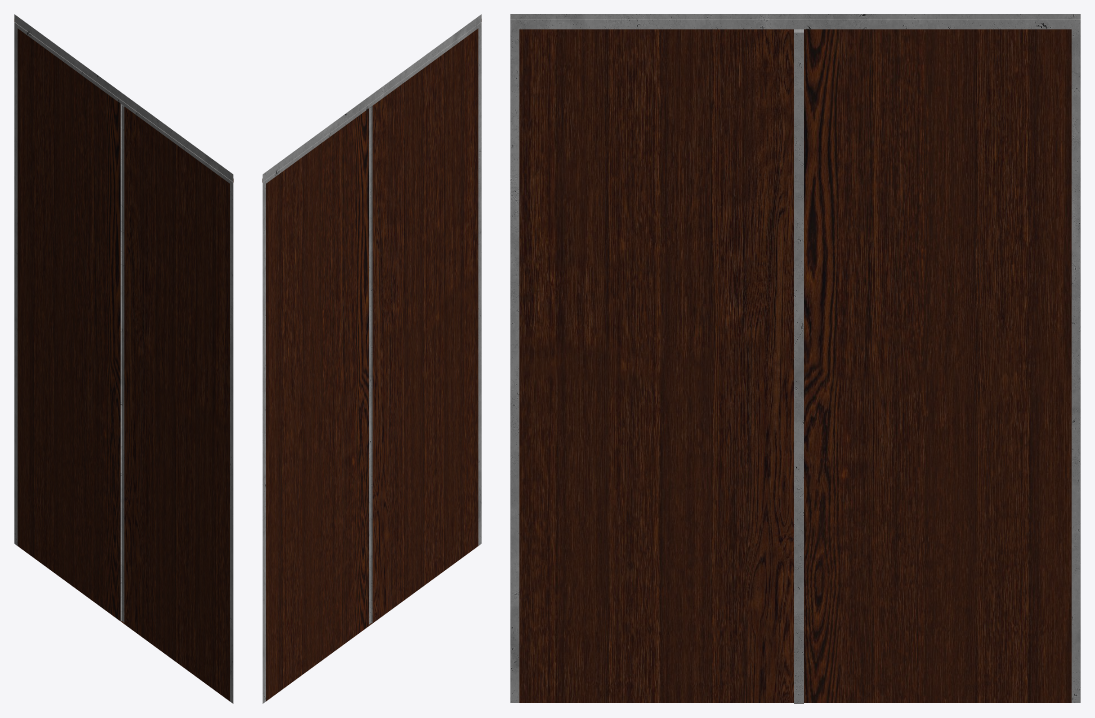
The model's file is right_wall.glb.
The picture shows the model from 3 angles, left to right: view 1: azimuth 30°, elevation 25°; view 2: azimuth 150°, elevation 25°; view 3: azimuth 270°, elevation 25°; orthographic projection. The views are drawn at different scales.
Parts seen in each view (by area): view 1: right; view 2: right; view 3: right.
Boxes of the visible parts, x1,y1,x2,y2 form: right: [14, 14, 233, 703]; right: [262, 14, 481, 703]; right: [510, 14, 1080, 703].
Bounding box in the file's own units: 0.0609 × 20 × 15.
Materials: 2 (2 with a texture image).
